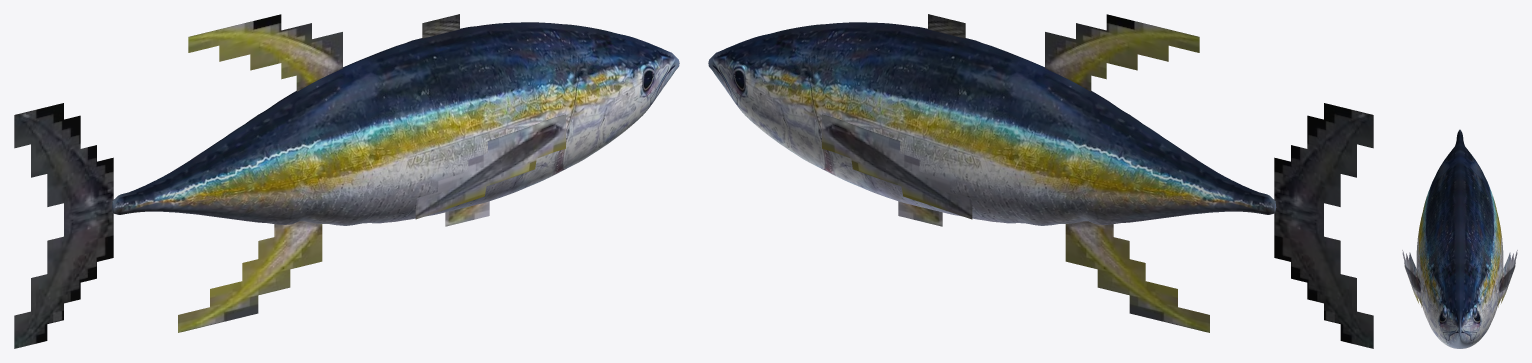
The model's file is real-thunnus_albacares.glb.
3 views of the same model, side by side, from view 1: azimuth 30°, elevation 25°; view 2: azimuth 150°, elevation 25°; view 3: azimuth 270°, elevation 25° (orthographic). The views are drawn at different scales.
Visible parts, largest first — view 1: thunnus_albacares; view 2: thunnus_albacares; view 3: thunnus_albacares.
Boxes of the visible parts, x1,y1,x2,y2 form: thunnus_albacares: (14,14,679,348); thunnus_albacares: (708,14,1373,348); thunnus_albacares: (1402,129,1517,348).
Bounding box in the file's own units: 1.5 × 0.6345 × 0.3082.
Materials: 1 (1 with a texture image).
